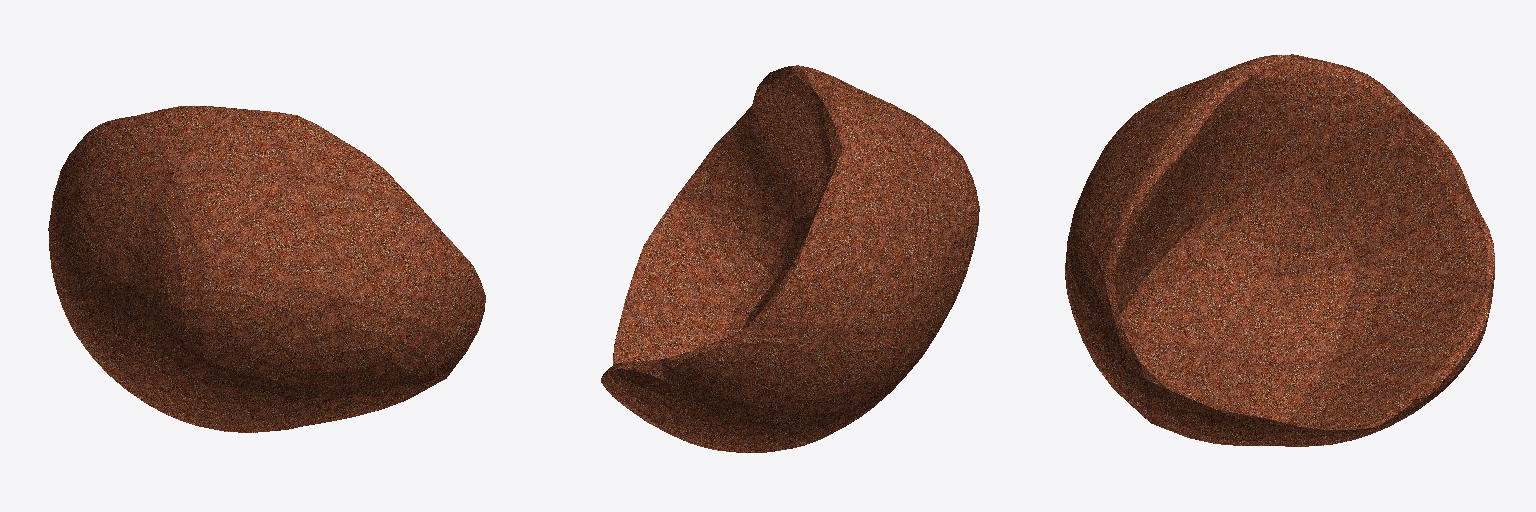
3 views of the same model, side by side, from view 1: azimuth 30°, elevation 25°; view 2: azimuth 150°, elevation 25°; view 3: azimuth 270°, elevation 25° (orthographic).
Visible parts, largest first — view 1: Icosphere; view 2: Icosphere; view 3: Icosphere.
Part boxes in pixels (x1,y1,x2,y2): Icosphere: (48,106,485,432); Icosphere: (601,65,979,452); Icosphere: (1065,54,1494,446).
Bounding box in the file's own units: 1.82 × 1.75 × 2.03.
1 materials, 1 textured.